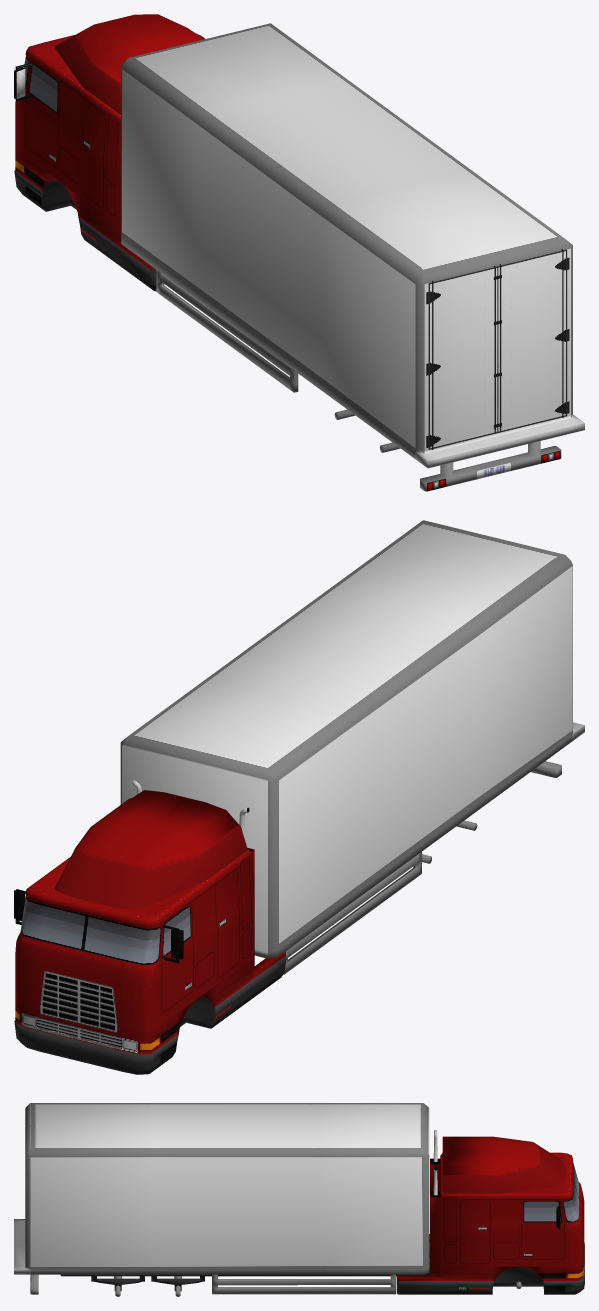
Rendered from 88navistarbox.fbx.
The picture shows the model from 3 angles, top to bottom: view 1: azimuth 30°, elevation 25°; view 2: azimuth 150°, elevation 25°; view 3: azimuth 270°, elevation 25°; orthographic projection. The views are drawn at different scales.
Visible parts, largest first — view 1: 88navistar; view 2: 88navistar; view 3: 88navistar.
Boxes of the visible parts, bbox=[...] form: 88navistar: bbox=[14, 14, 584, 491]; 88navistar: bbox=[14, 520, 584, 1074]; 88navistar: bbox=[14, 1103, 584, 1296].
Size of the model in its own units: 2.89 by 3.85 by 12.71.
